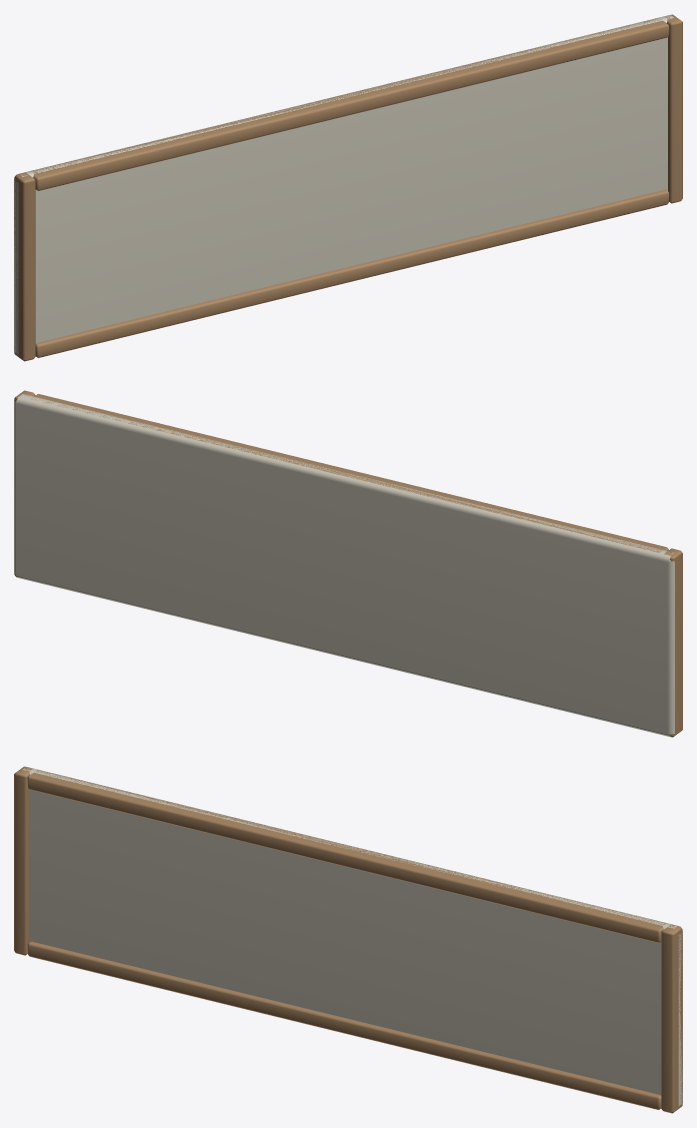
The model's file is name_sign.glb.
The picture shows the model from 3 angles, top to bottom: view 1: azimuth 30°, elevation 25°; view 2: azimuth 150°, elevation 25°; view 3: azimuth 330°, elevation 25°; orthographic projection.
Parts seen in each view (by area): view 1: Body; view 2: Body; view 3: Body.
Boxes of the visible parts, x1,y1,x2,y2 form: Body: (14,14,682,361); Body: (14,390,682,737); Body: (14,766,682,1113).
Size of the model in its own units: 1.45 by 0.38 by 0.046.
